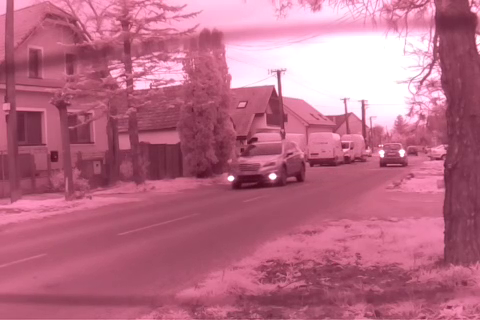car: (225, 140, 310, 188), (377, 141, 408, 169)
